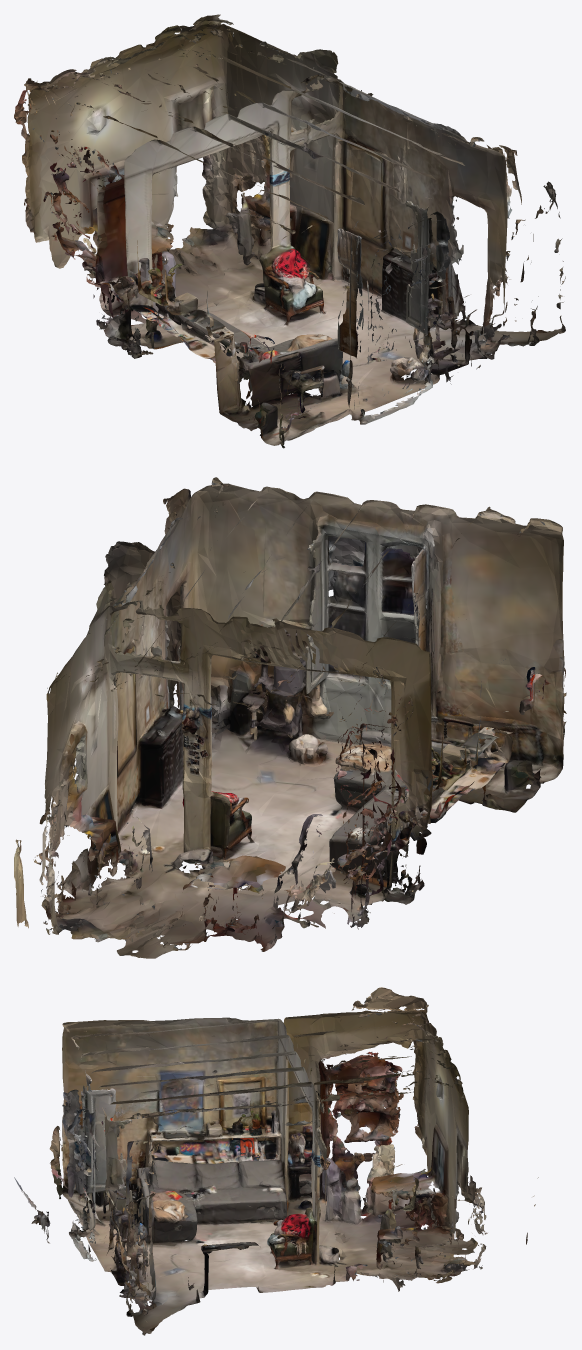
Rendered from room_q.glb.
3 renders of one model, top to bottom at view 1: azimuth 30°, elevation 25°; view 2: azimuth 150°, elevation 25°; view 3: azimuth 270°, elevation 25°, orthographic. The views are drawn at different scales.
Visible parts, largest first — view 1: mesh; view 2: mesh; view 3: mesh.
Boxes of the visible parts, box(x1,y1,x2,y2) form: mesh: box(14, 14, 565, 448); mesh: box(14, 477, 566, 958); mesh: box(14, 987, 538, 1335).
Bounding box in the file's own units: 5.99 × 3.62 × 8.73.
Materials: 1 (1 with a texture image).
